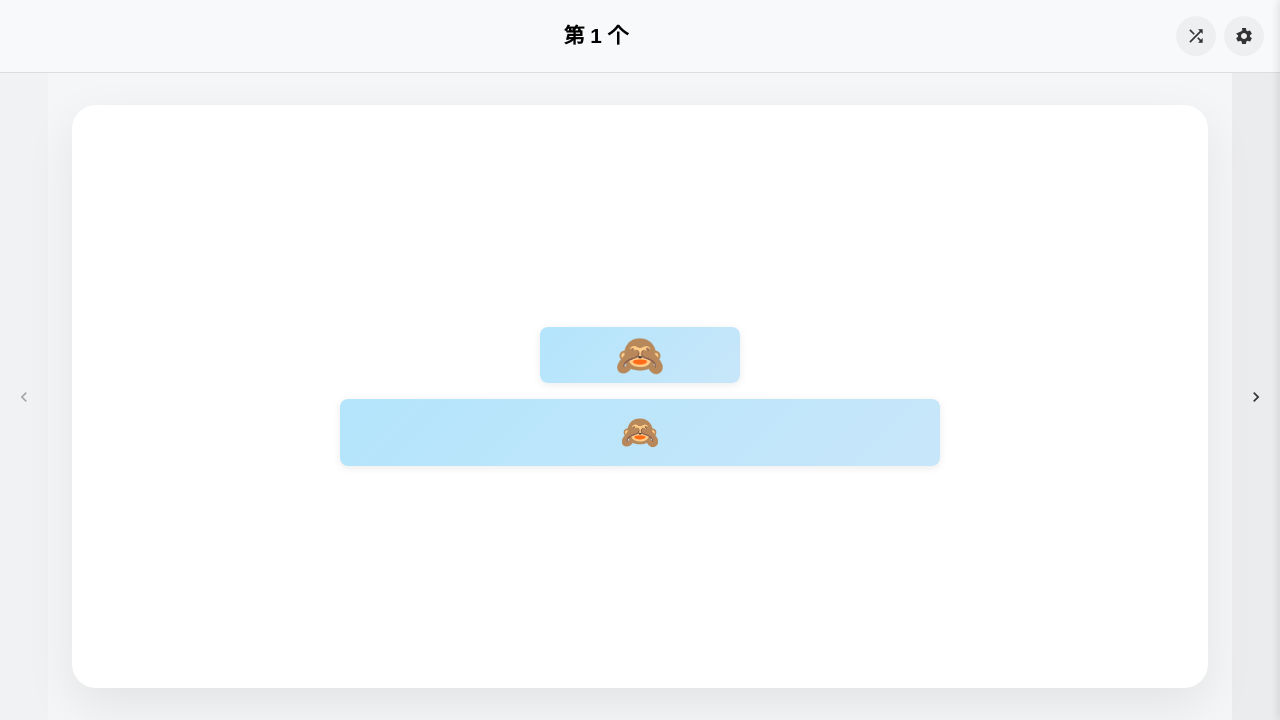
Test: HanziView.vue › character sets selection › has collapsible character sets section with select all
Click the button with class "config-btn".
click(1244, 36)  # box [1224, 16, 1264, 56]
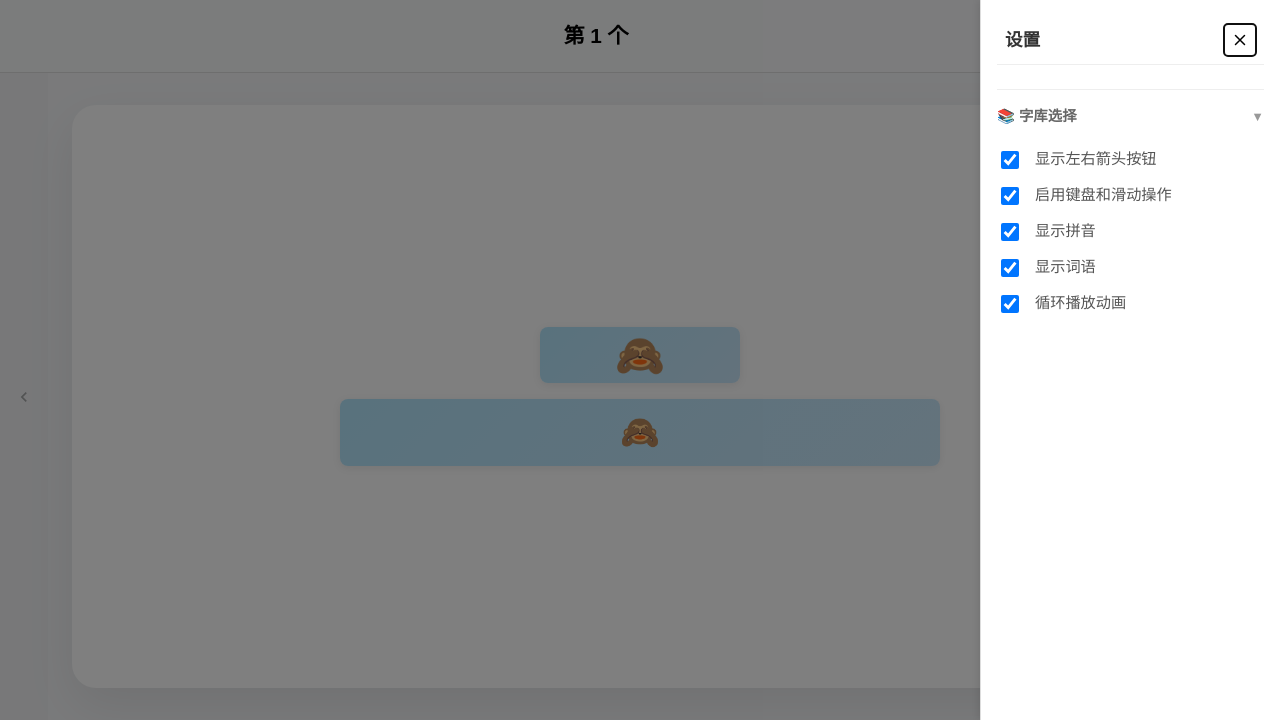
Click the element with class "collapsible".
click(1037, 116)  # box [997, 108, 1264, 124]
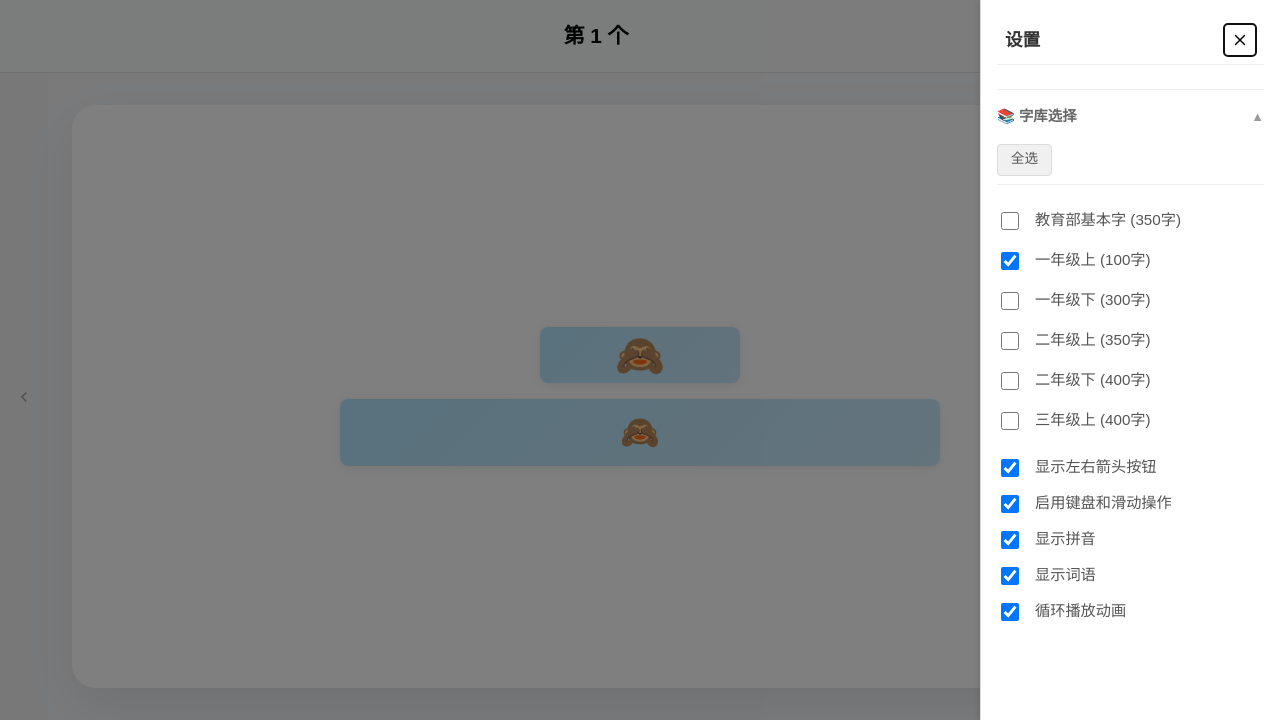
Expected: the element with class "set-list" is shown, [997, 144, 1264, 444]
Expected: the button with class "select-all-btn" is shown, [997, 144, 1052, 176]
Expected: the element with class "set-item" showing "教育部基本字 (350字)" is shown, [1001, 211, 1181, 230]
